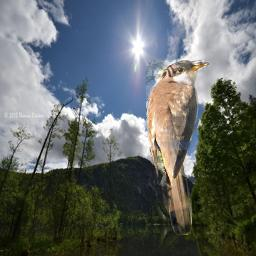Cuckoo: (146, 60, 209, 235)
